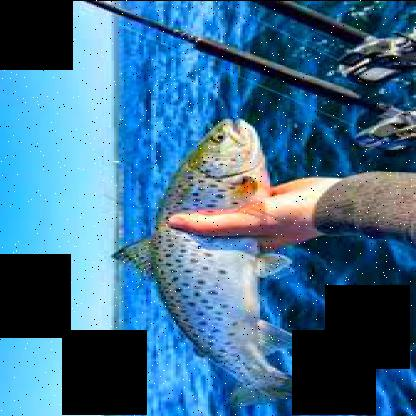fish: (121, 114, 334, 413)
